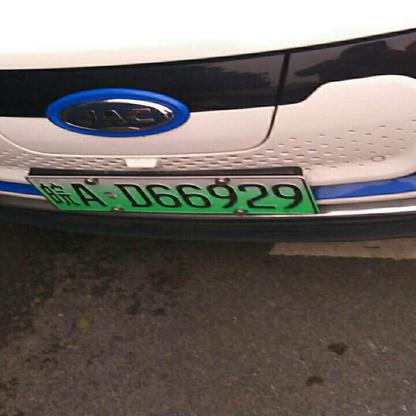lp: (60, 176, 316, 211)
